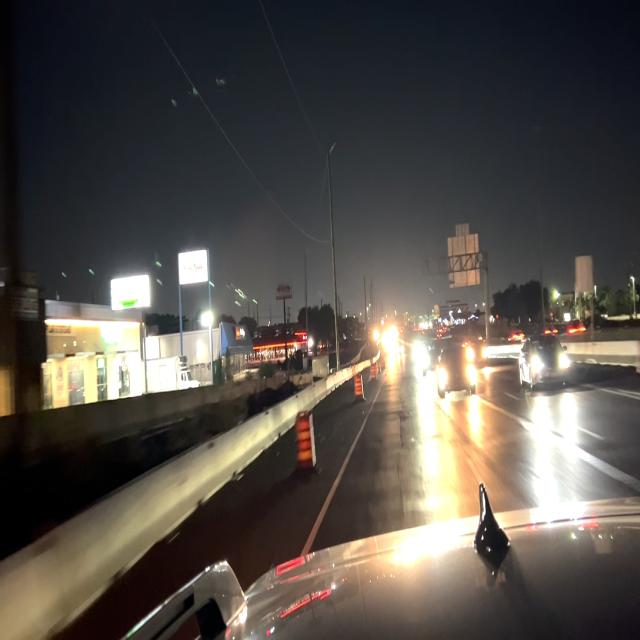back-of-sign: (445, 219, 482, 295)
